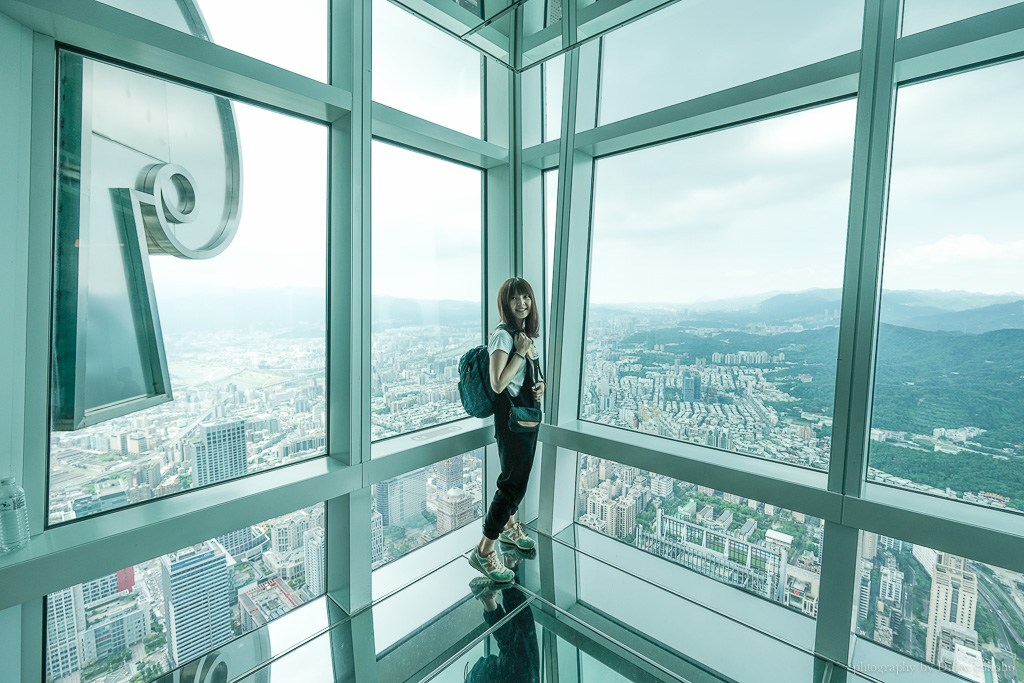people: (471, 281, 537, 591)
